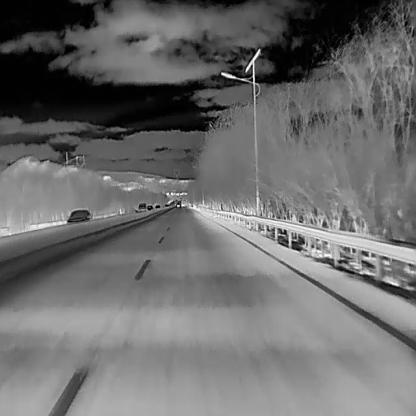car: (65, 208, 92, 224), (135, 201, 148, 213), (146, 204, 153, 210), (154, 203, 160, 209), (181, 200, 185, 207), (176, 203, 180, 207)
